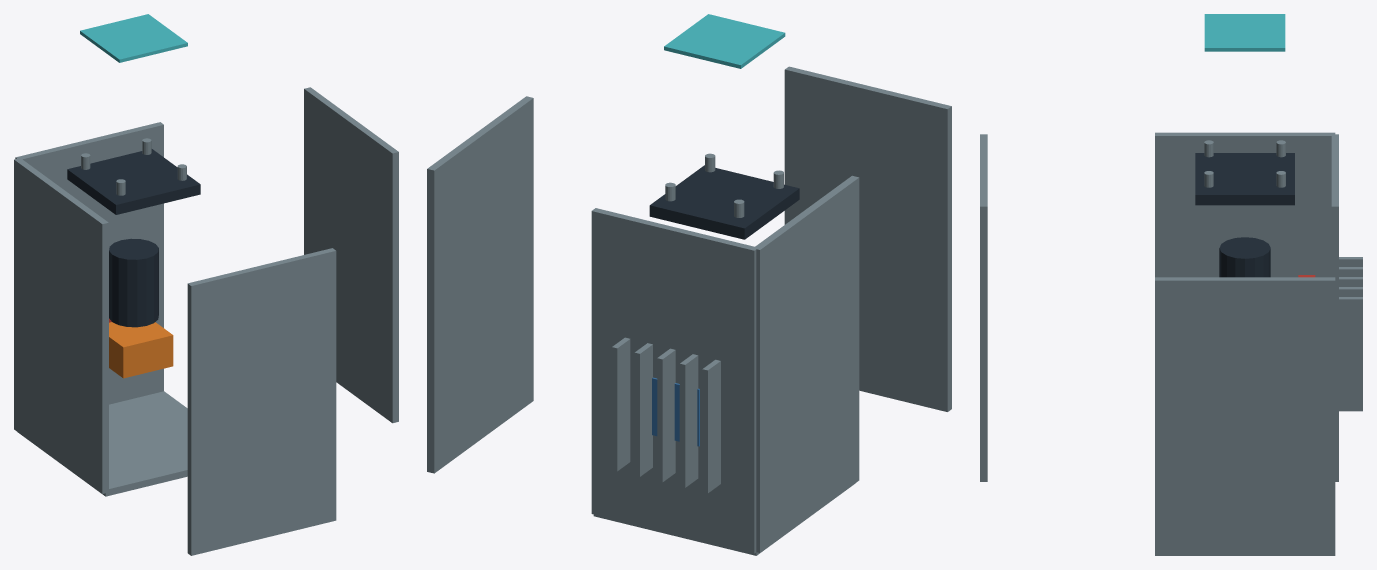
Rendered from housing_line.obj.
The picture shows the model from 3 angles, left to right: view 1: azimuth 30°, elevation 25°; view 2: azimuth 150°, elevation 25°; view 3: azimuth 270°, elevation 25°; orthographic projection. The views are drawn at different scales.
Parts seen in each view (by area): view 1: CAM_LINE_top_2, CAM_LINE_left_0, CAM_LINE_right_1, CAM_LINE_bottom_3, CAM_LINE_rear_4, CAM_LINE_seal_10, CAM_LINE_lens_6, CAM_LINE_window_7, CAM_LINE_5; view 2: CAM_LINE_bottom_3, CAM_LINE_top_2, CAM_LINE_right_1, CAM_LINE_left_0, CAM_LINE_seal_10, CAM_LINE_window_7, CAM_LINE_rib_16, CAM_LINE_rib_15, CAM_LINE_rib_19, CAM_LINE_rib_17, CAM_LINE_rib_18, CAM_LINE_TEC_9; view 3: CAM_LINE_right_1, CAM_LINE_left_0, CAM_LINE_seal_10, CAM_LINE_window_7, CAM_LINE_top_2, CAM_LINE_rib_19, CAM_LINE_lens_6, CAM_LINE_bottom_3.
Part boxes in pixels (x1,y1,x2,y2): CAM_LINE_top_2: [187, 248, 336, 555]; CAM_LINE_left_0: [14, 158, 108, 493]; CAM_LINE_right_1: [304, 87, 398, 423]; CAM_LINE_bottom_3: [15, 122, 163, 404]; CAM_LINE_rear_4: [18, 391, 187, 496]; CAM_LINE_seal_10: [67, 149, 200, 214]; CAM_LINE_lens_6: [109, 238, 158, 327]; CAM_LINE_window_7: [80, 14, 187, 62]; CAM_LINE_5: [109, 322, 173, 378]; CAM_LINE_bottom_3: [591, 208, 756, 553]; CAM_LINE_top_2: [784, 66, 951, 411]; CAM_LINE_right_1: [427, 96, 533, 473]; CAM_LINE_left_0: [753, 175, 859, 552]; CAM_LINE_seal_10: [649, 165, 799, 239]; CAM_LINE_window_7: [664, 14, 785, 68]; CAM_LINE_rib_16: [679, 354, 698, 487]; CAM_LINE_rib_15: [702, 359, 720, 493]; CAM_LINE_rib_19: [612, 337, 630, 471]; CAM_LINE_rib_17: [657, 348, 675, 482]; CAM_LINE_rib_18: [634, 343, 652, 476]; CAM_LINE_TEC_9: [652, 377, 699, 446]; CAM_LINE_right_1: [1155, 277, 1335, 555]; CAM_LINE_left_0: [1155, 132, 1335, 277]; CAM_LINE_seal_10: [1195, 153, 1294, 205]; CAM_LINE_window_7: [1204, 14, 1285, 51]; CAM_LINE_top_2: [980, 134, 987, 481]; CAM_LINE_rib_19: [1339, 297, 1362, 411]; CAM_LINE_lens_6: [1219, 237, 1270, 277]; CAM_LINE_bottom_3: [1331, 134, 1338, 481].
Bounding box in the file's own units: 0.368 × 0.486 × 0.403.
